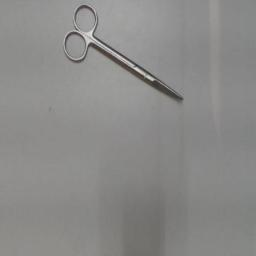Curved Mayo Scissors: (60, 2, 188, 106)
